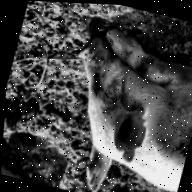boar: (43, 21, 192, 192)
